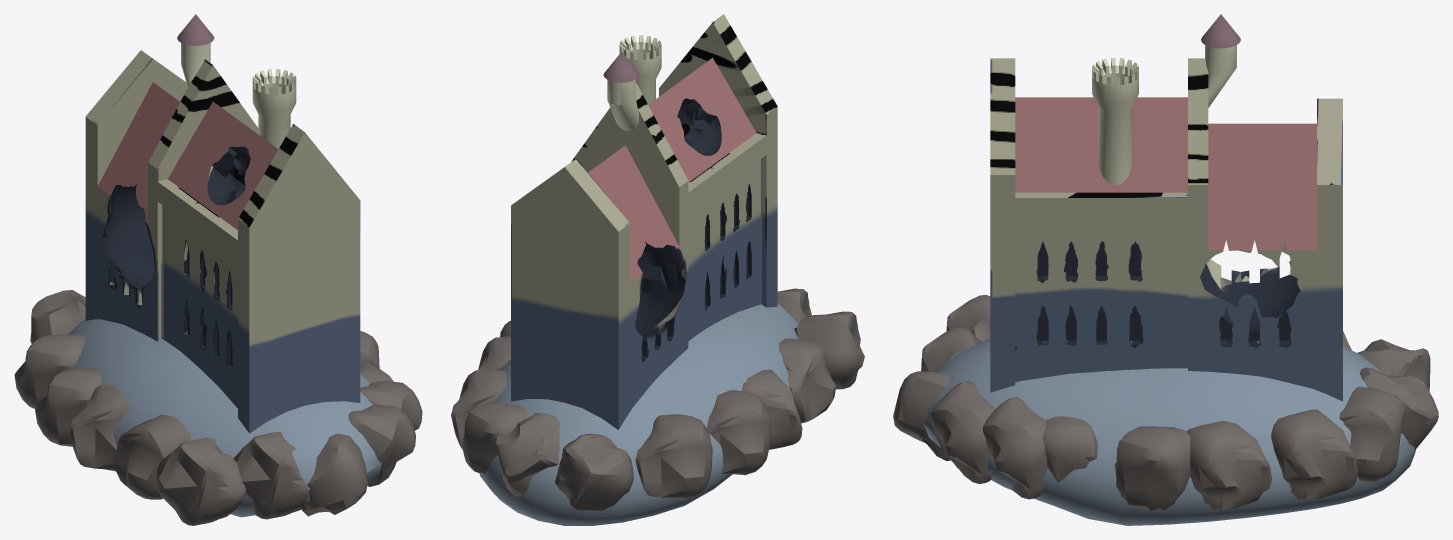
File: castle.glb
3 views of the same model, side by side, from view 1: azimuth 30°, elevation 25°; view 2: azimuth 150°, elevation 25°; view 3: azimuth 270°, elevation 25° (orthographic). The views are drawn at different scales.
Visible parts, largest first — view 1: Castle; view 2: Castle; view 3: Castle.
Part boxes in pixels (x1,y1,x2,y2): Castle: (14,14,422,525); Castle: (451,14,864,525); Castle: (893,14,1438,525).
Size of the model in its own units: 26.82 by 36.99 by 38.9.
6 materials, 1 textured.
